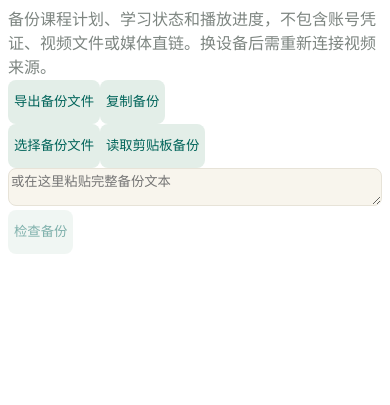
Test: BackupPanel › describes H5 downloads as requested, never confirmed saved
Step 1. Click the button with test id "backup-export" → click(54, 102), box 8,80 -> 100,124
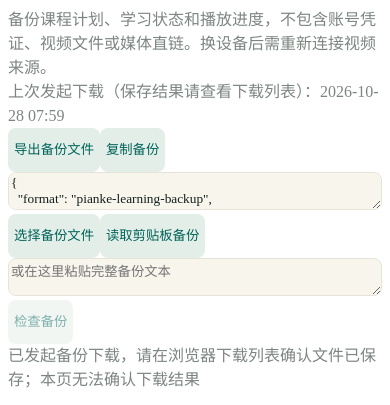
Result: the text "本页无法确认下载结果" is shown at 8,347 -> 376,388
